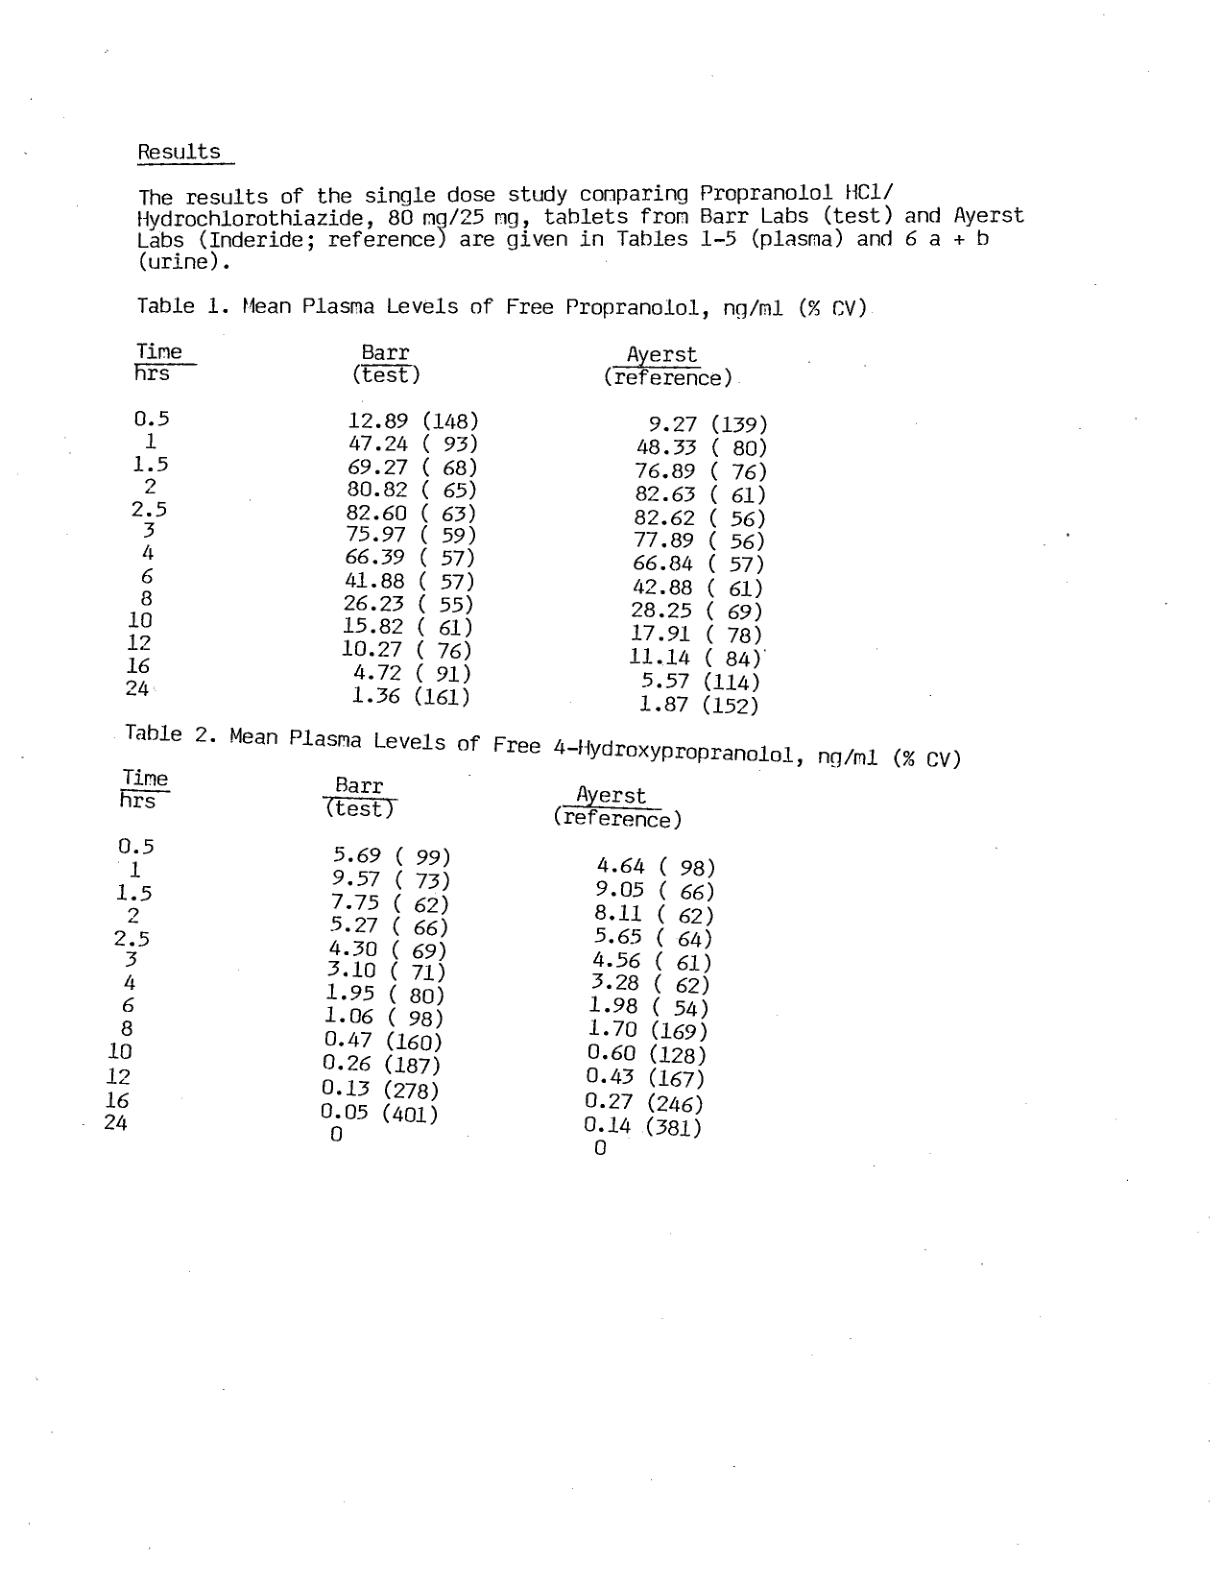nolines: (121, 337, 768, 716), (96, 762, 716, 1157)
